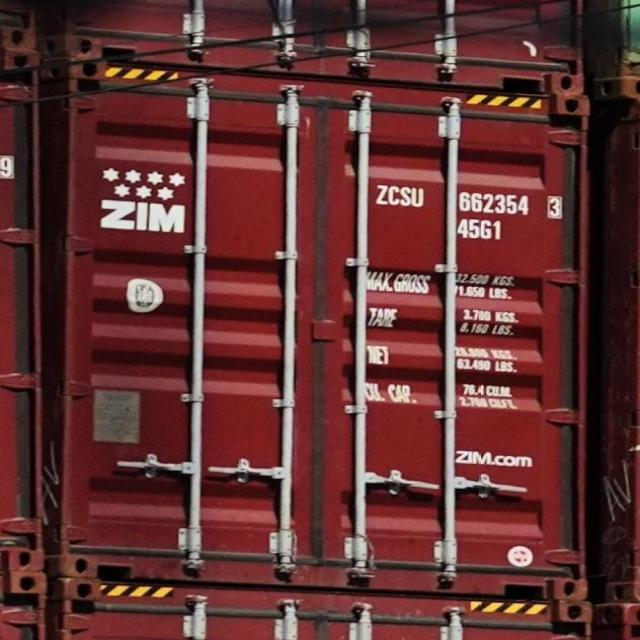ISO: (458, 220, 509, 242)
container_number: (381, 182, 564, 220)
